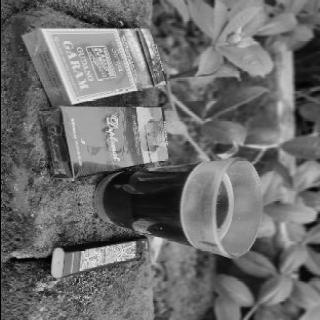objects: (21, 28, 165, 106), (38, 106, 170, 180)
